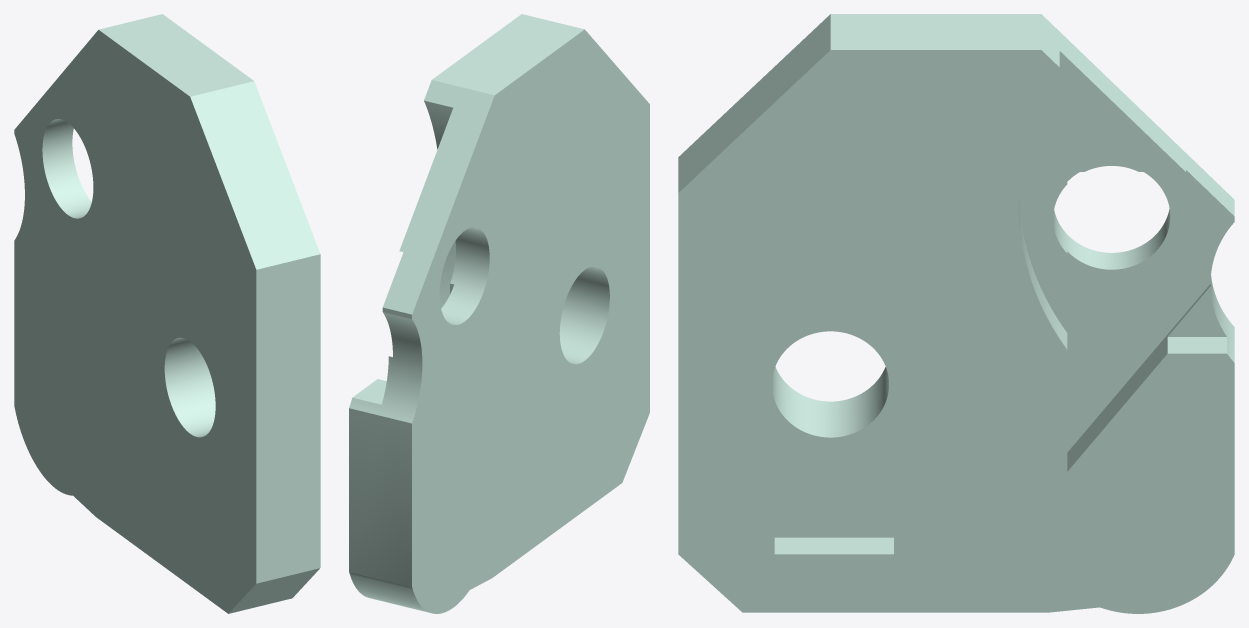
3 views of the same model, side by side, from view 1: azimuth 30°, elevation 25°; view 2: azimuth 150°, elevation 25°; view 3: azimuth 270°, elevation 25° (orthographic). The views are drawn at different scales.
Parts seen in each view (by area): view 1: Renderer Node; view 2: Renderer Node; view 3: Renderer Node.
Part boxes in pixels (x1,y1,x2,y2): Renderer Node: (14,14,320,613); Renderer Node: (349,14,649,613); Renderer Node: (678,14,1234,613).
Bounding box in the file's own units: 0.2344 × 1.71 × 1.53.
